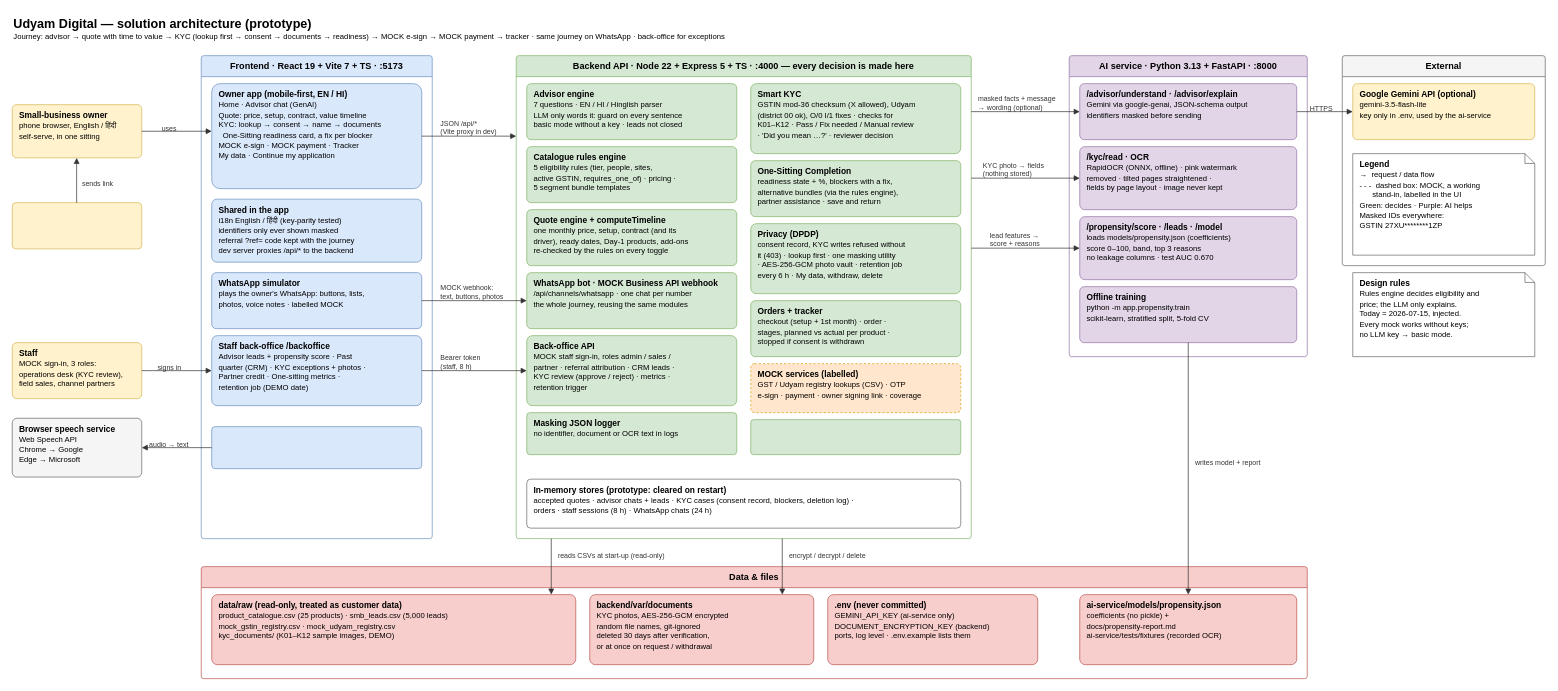
The diagram is 1558 pixels wide and 691 high, and some of its shapes have lost their labels. Each missing label, with the centre of its shape:
Partner / field sales shares a referral link / QR /?ref=PTR-01: [77,225]
Propensity client back-office lists still work if it is down: [855,437]
Voice dictation 🎤 + read-aloud 🔊 words appear in the box; owner edits, then Send: [316,447]
